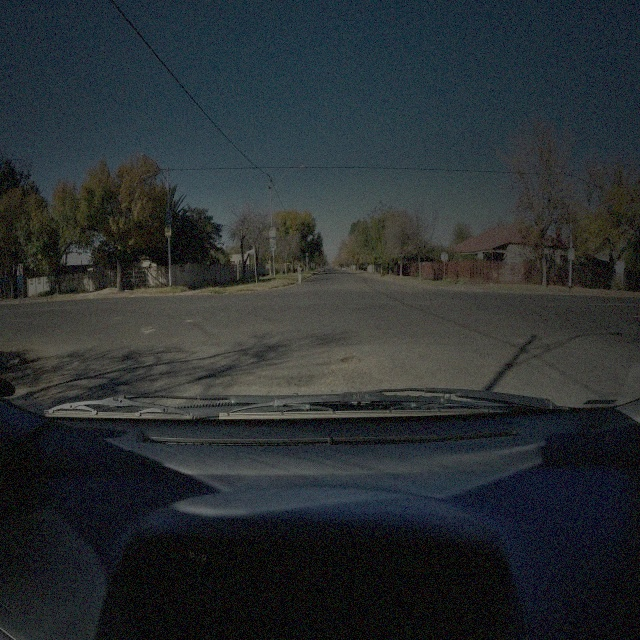pothole: (341, 353, 361, 367)
